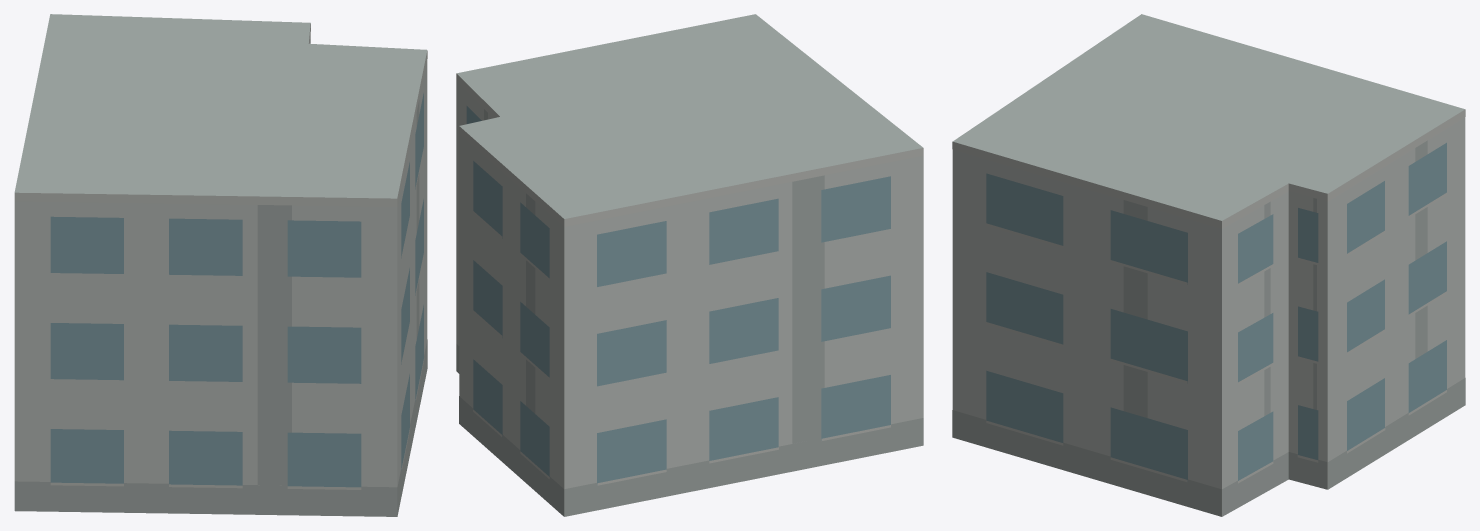
Rendered from survey-upis-32653789.glb.
3 views of the same model, side by side, from view 1: azimuth 30°, elevation 25°; view 2: azimuth 150°, elevation 25°; view 3: azimuth 270°, elevation 25° (orthographic). The views are drawn at different scales.
Visible parts, largest first — view 1: survey-upis-32653789.tmp; view 2: survey-upis-32653789.tmp; view 3: survey-upis-32653789.tmp.
Part boxes in pixels (x1,y1,x2,y2): survey-upis-32653789.tmp: (14,14,427,516); survey-upis-32653789.tmp: (456,14,923,516); survey-upis-32653789.tmp: (952,14,1465,516).
Size of the model in its own units: 13.73 by 9.15 by 14.38.
